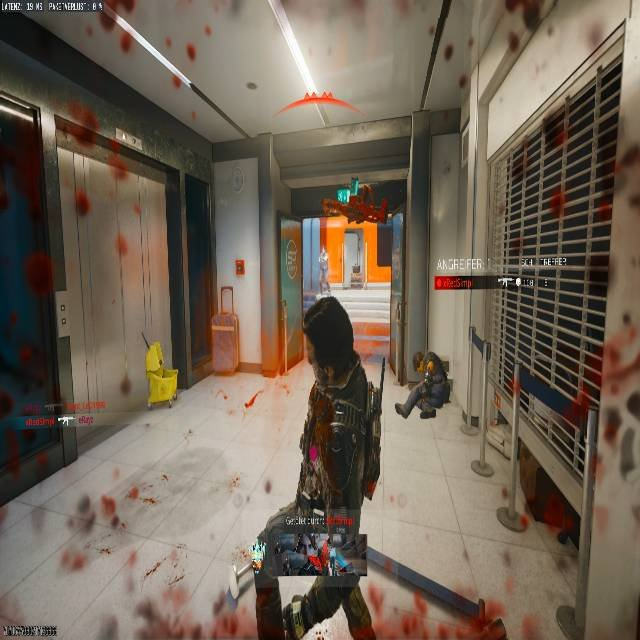head: (302, 294, 351, 340), (412, 350, 432, 372)
